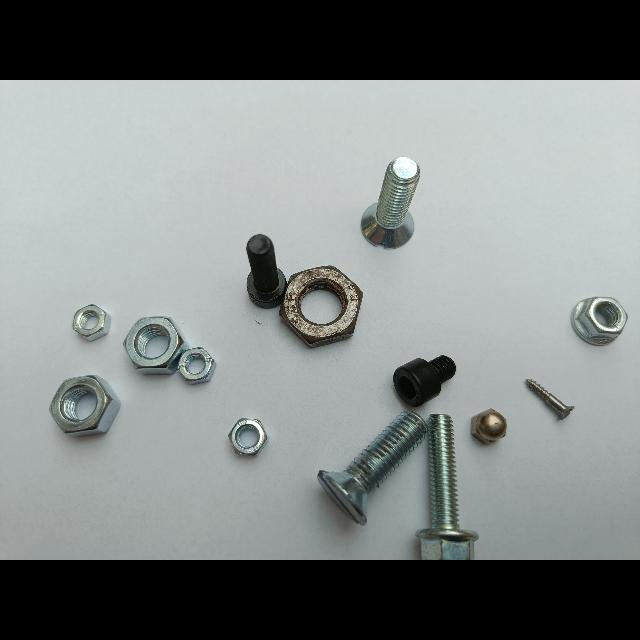bolt: (318, 411, 428, 525), (416, 414, 478, 560), (361, 157, 420, 249), (393, 355, 456, 407), (246, 234, 287, 309), (525, 379, 574, 420)
nuts: (280, 266, 363, 347), (50, 375, 120, 436), (124, 317, 188, 374), (571, 297, 628, 345), (229, 418, 268, 455), (178, 347, 216, 384), (73, 305, 111, 341), (471, 409, 507, 444)
